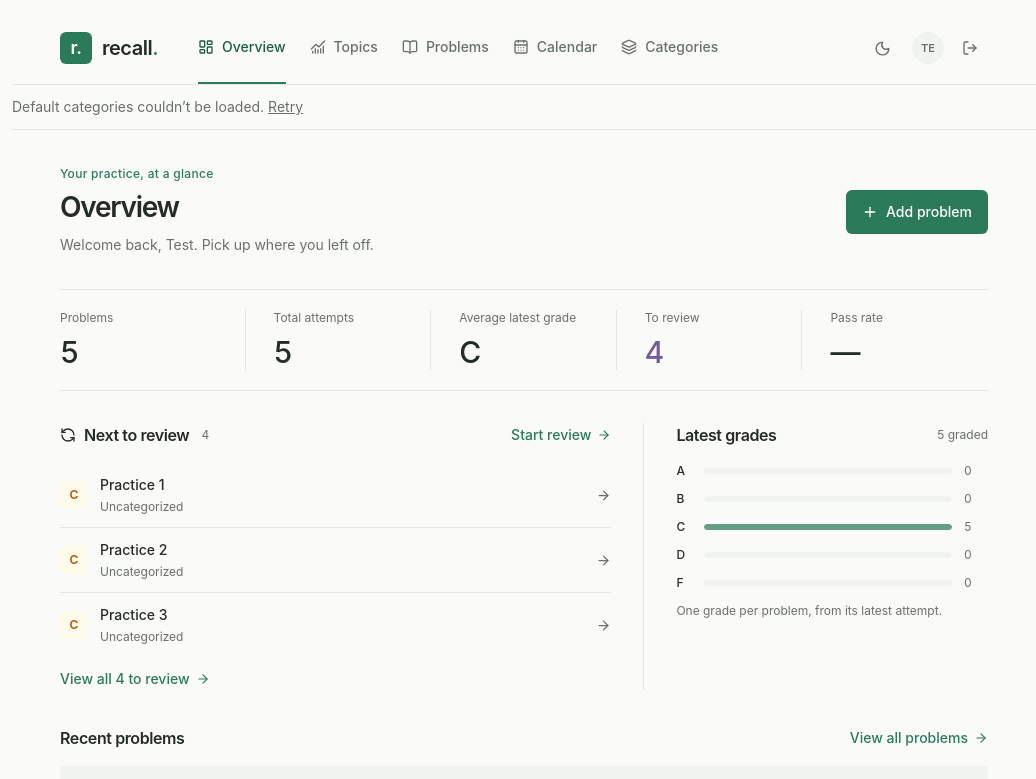
offers retry when default category setup fails without hiding the journal
Check: the message shows "Default categories couldn’t be loaded.", box [12,98,264,115]
Check: the heading "Overview" is shown, box [60,190,179,224]
Click the button "Retry": (286, 107) [268,97,303,117]
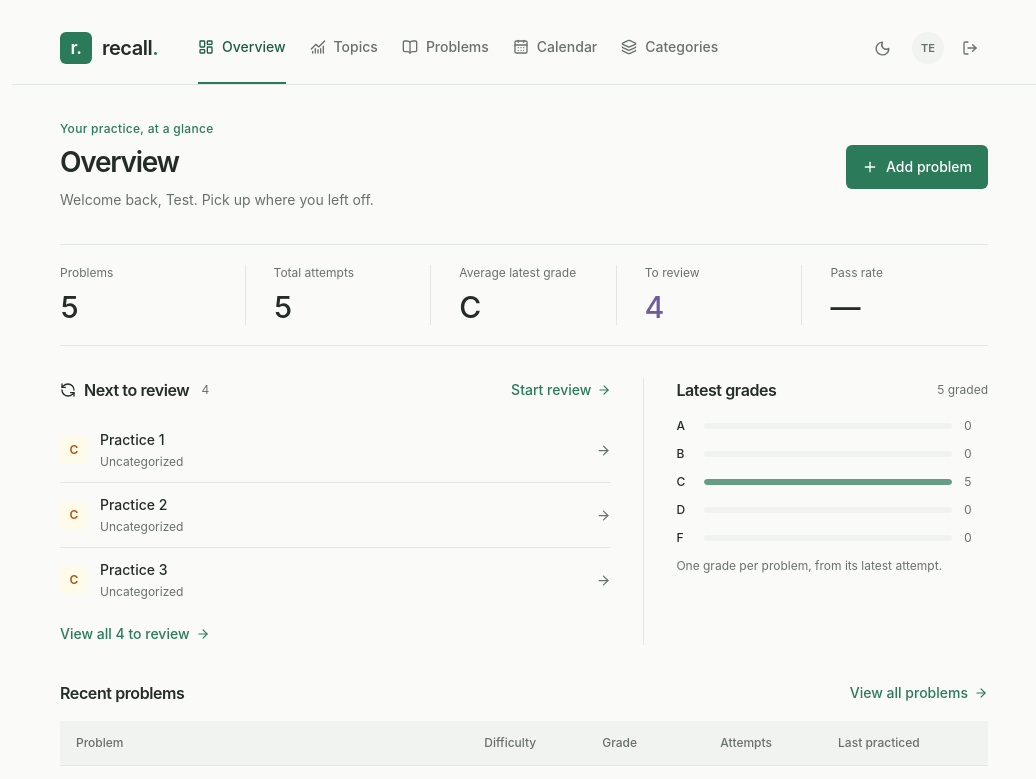
Check: the message "Default categories couldn’t be loaded. Retry" is gone
